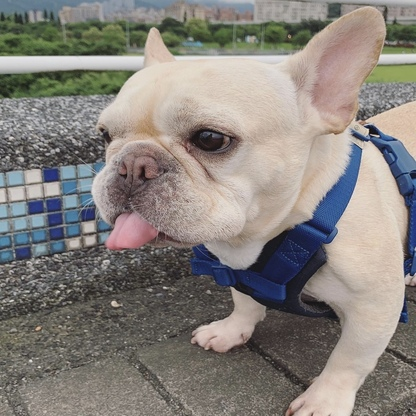bulldog: (85, 6, 416, 412)
